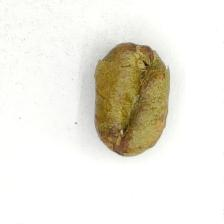NG: (99, 43, 167, 154)
